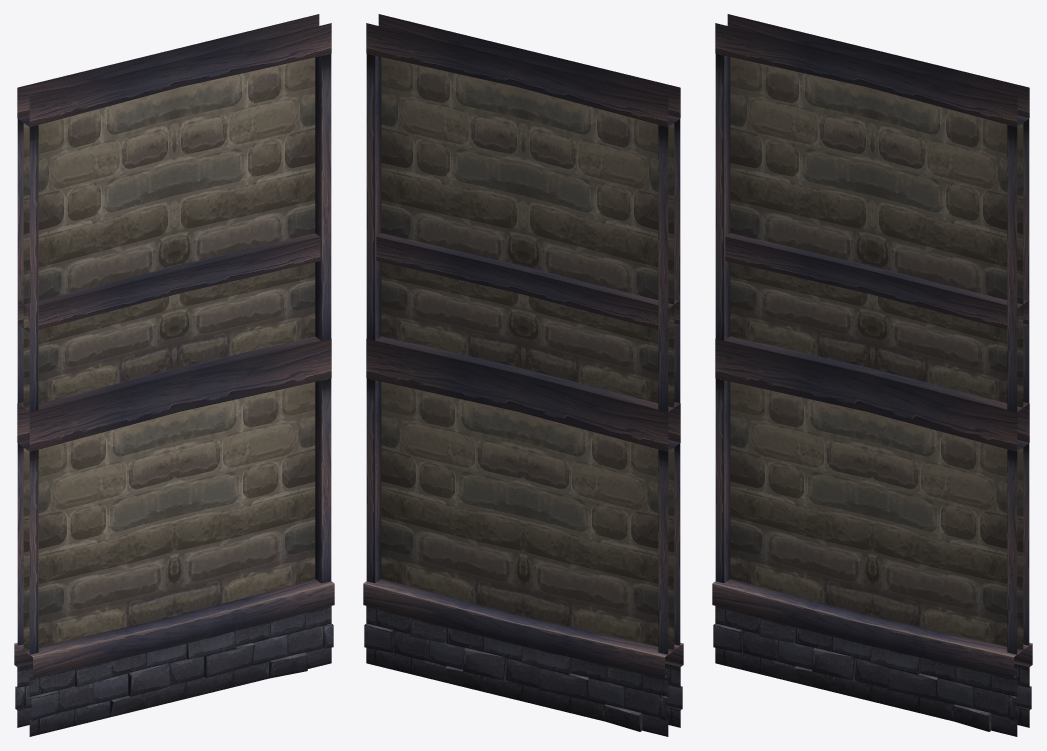
The model's file is Wall_2sided_detailed_2Floors_Bricks.fbx.
3 renders of one model, left to right at view 1: azimuth 30°, elevation 25°; view 2: azimuth 150°, elevation 25°; view 3: azimuth 330°, elevation 25°, orthographic.
Visible parts, largest first — view 1: Wall_2sided_detailed_2Floors_Bricks; view 2: Wall_2sided_detailed_2Floors_Bricks; view 3: Wall_2sided_detailed_2Floors_Bricks.
Part boxes in pixels (x1,y1,x2,y2): Wall_2sided_detailed_2Floors_Bricks: [14, 14, 334, 736]; Wall_2sided_detailed_2Floors_Bricks: [363, 14, 683, 736]; Wall_2sided_detailed_2Floors_Bricks: [712, 14, 1032, 736].
Size of the model in its own units: 0.6266 by 1.27 by 0.0678.
